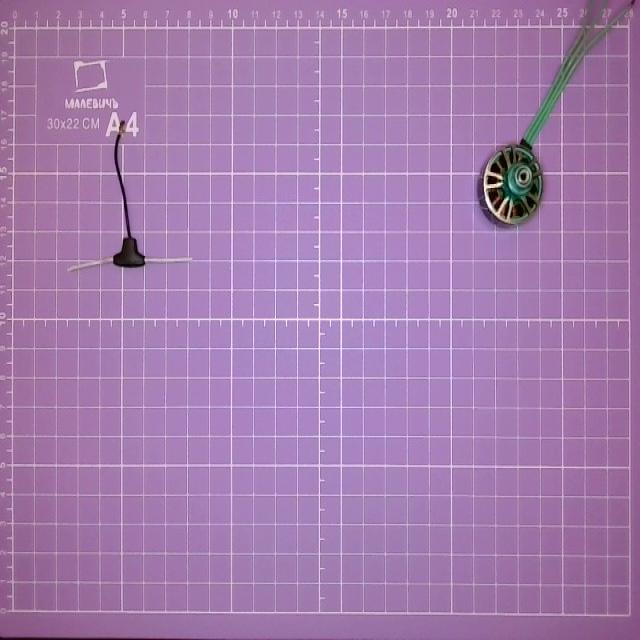antenna: (66, 120, 200, 273)
motor: (466, 0, 640, 228)
